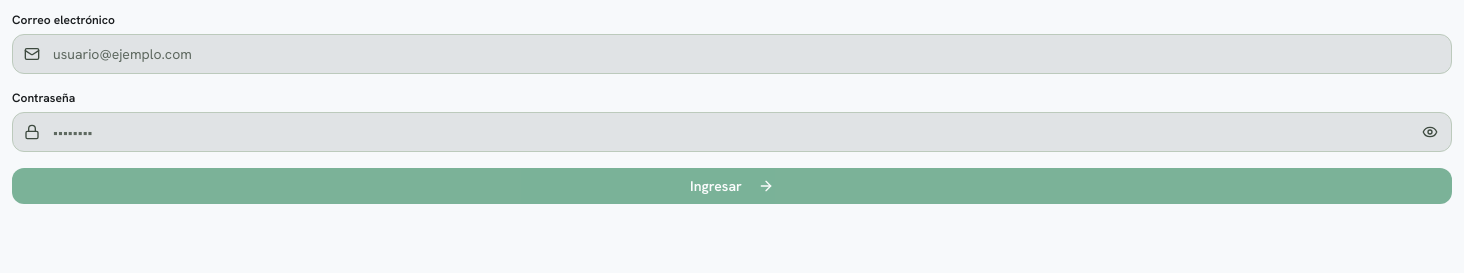
Test: LoginForm — error display › signIn devuelve null → muestra error generico
Type "user@example.com" into the field labelled "Correo electrónico".
click(732, 54); type("user@example.com")  # box [12,34,1452,74]
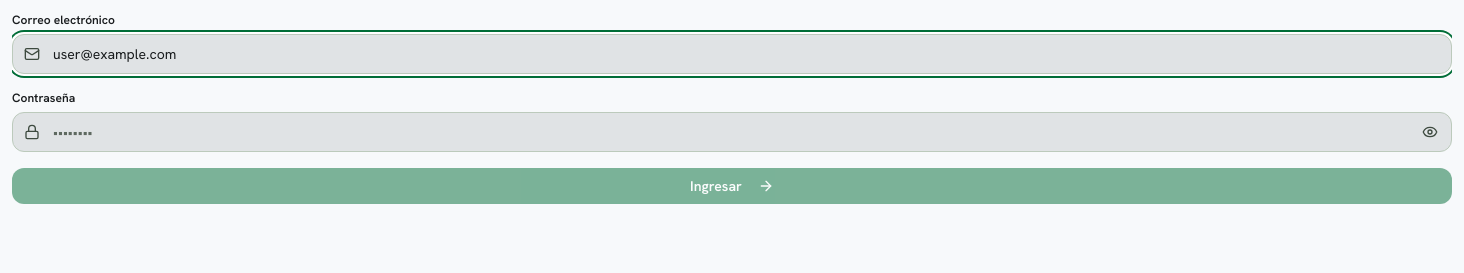
Type "secret" into the password field labelled "Contraseña".
click(732, 132); type("secret")  # box [12,112,1452,152]
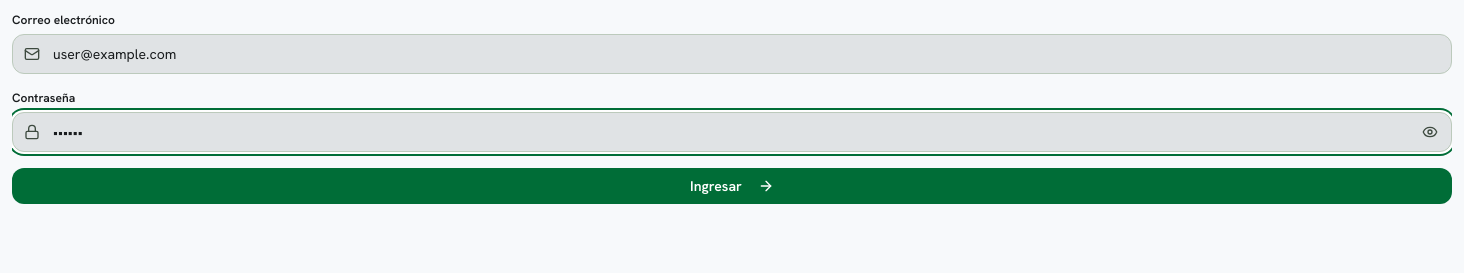
Click the button "Ingresar".
click(732, 186)  # box [12,168,1452,204]
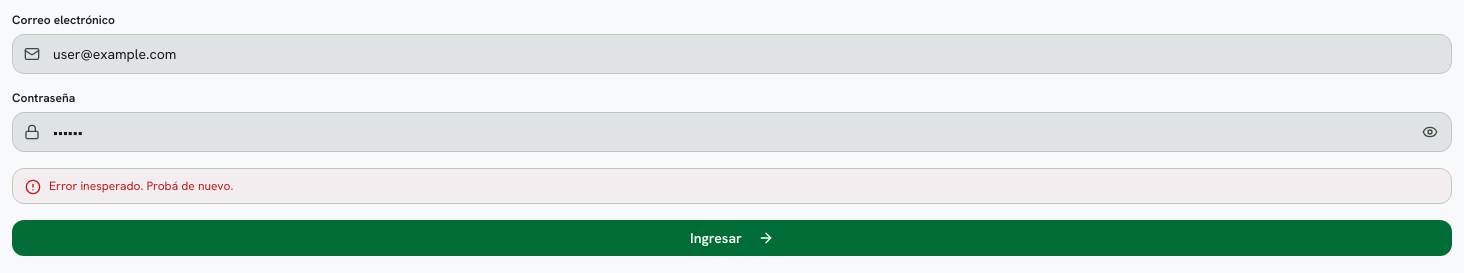
Result: the message shows "inesperado" at [49,178,233,194]
